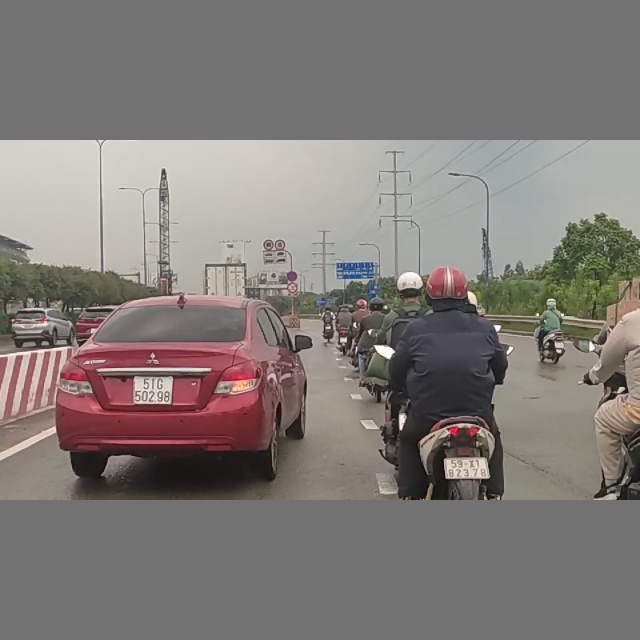P.130: (286, 271, 298, 282)
